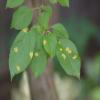Apple rust leaf: (8, 23, 35, 87), (56, 34, 82, 86), (26, 34, 48, 83), (42, 32, 58, 61)
